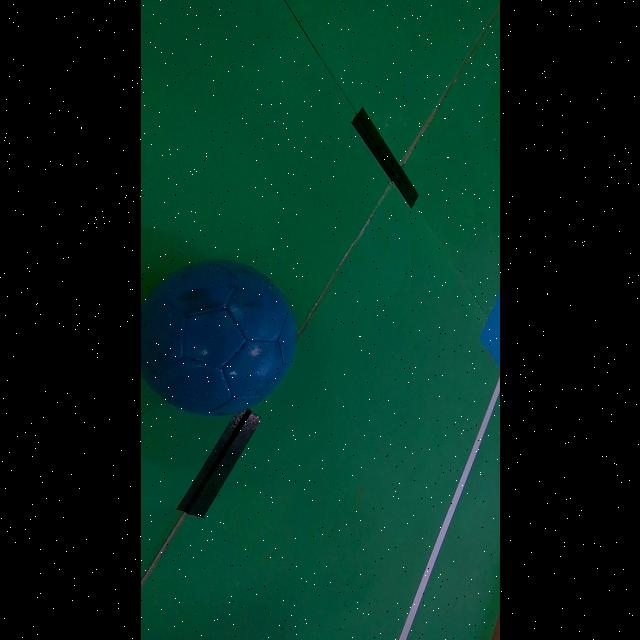B: (140, 260, 295, 416)
